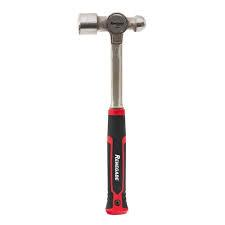hammer: (75, 9, 148, 216)
